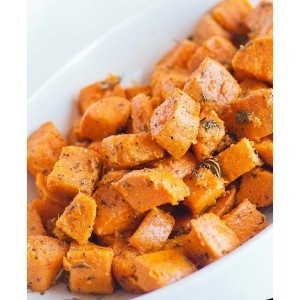sweet potato_brain food: (49, 93, 255, 253)
